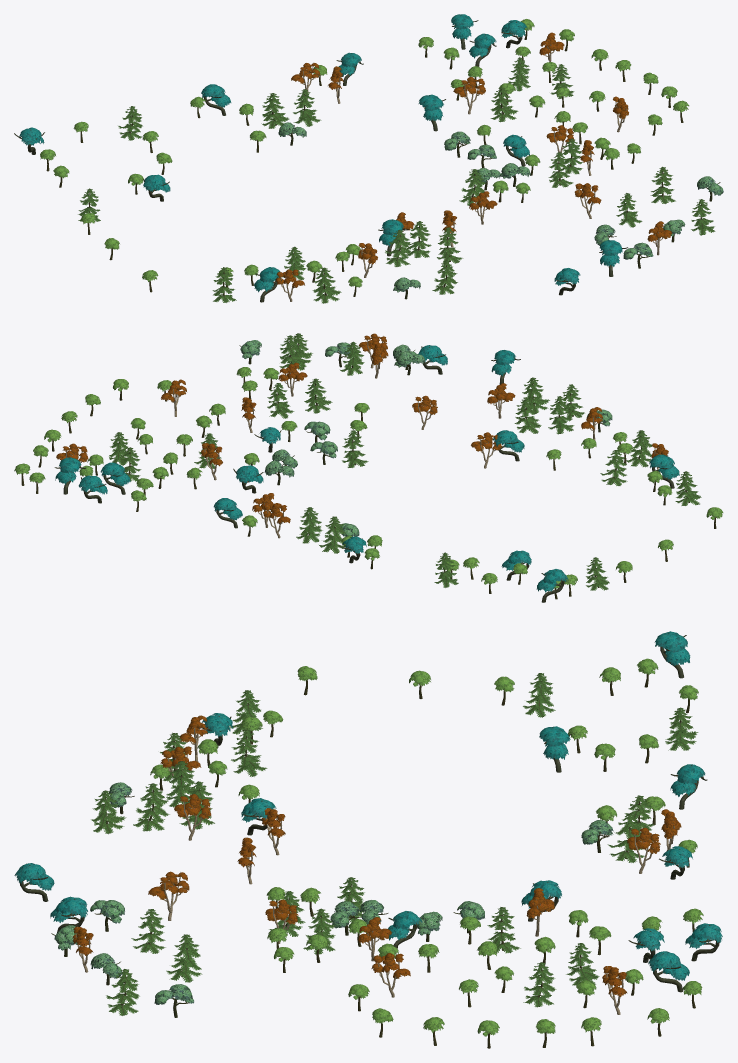
The model's file is overworld-4-5.gltf.
3 views of the same model, one above another, from view 1: azimuth 30°, elevation 25°; view 2: azimuth 150°, elevation 25°; view 3: azimuth 270°, elevation 25° (orthographic). The views are drawn at different scales.
Parts seen in each view (by area): view 1: 7e2e11a73c6c1f6b77c7c18c44a87655900818e94c168e7a92bb0a48cc87 (×14), 883bf022a4c95c0b0a24ce14e7511dc7b18eb62759134961097aa30193af (×8), 133dae8ce562dbc4cbf0d0d2cb7dc4cb2baafed83b6c58ebd4446a365708 (×2); view 2: 7e2e11a73c6c1f6b77c7c18c44a87655900818e94c168e7a92bb0a48cc87 (×15), 883bf022a4c95c0b0a24ce14e7511dc7b18eb62759134961097aa30193af (×10), 133dae8ce562dbc4cbf0d0d2cb7dc4cb2baafed83b6c58ebd4446a365708 (×3); view 3: 7e2e11a73c6c1f6b77c7c18c44a87655900818e94c168e7a92bb0a48cc87 (×13), 883bf022a4c95c0b0a24ce14e7511dc7b18eb62759134961097aa30193af (×9), 133dae8ce562dbc4cbf0d0d2cb7dc4cb2baafed83b6c58ebd4446a365708 (×4).
Part boxes in pixels (box(x1,y1,x2,y2)): 7e2e11a73c6c1f6b77c7c18c44a87655900818e94c168e7a92bb0a48cc87 (×14): box(118, 87, 715, 303); 883bf022a4c95c0b0a24ce14e7511dc7b18eb62759134961097aa30193af (×8): box(201, 14, 627, 302); 133dae8ce562dbc4cbf0d0d2cb7dc4cb2baafed83b6c58ebd4446a365708 (×2): box(453, 77, 601, 218); 7e2e11a73c6c1f6b77c7c18c44a87655900818e94c168e7a92bb0a48cc87 (×15): box(267, 335, 701, 590); 883bf022a4c95c0b0a24ce14e7511dc7b18eb62759134961097aa30193af (×10): box(54, 345, 679, 602); 133dae8ce562dbc4cbf0d0d2cb7dc4cb2baafed83b6c58ebd4446a365708 (×3): box(263, 383, 515, 538); 7e2e11a73c6c1f6b77c7c18c44a87655900818e94c168e7a92bb0a48cc87 (×13): box(91, 673, 698, 1015); 883bf022a4c95c0b0a24ce14e7511dc7b18eb62759134961097aa30193af (×9): box(14, 631, 722, 992); 133dae8ce562dbc4cbf0d0d2cb7dc4cb2baafed83b6c58ebd4446a365708 (×4): box(148, 794, 660, 997).
Size of the model in its own units: 129 by 13.24 by 104.
Materials: 10 (10 with a texture image).
